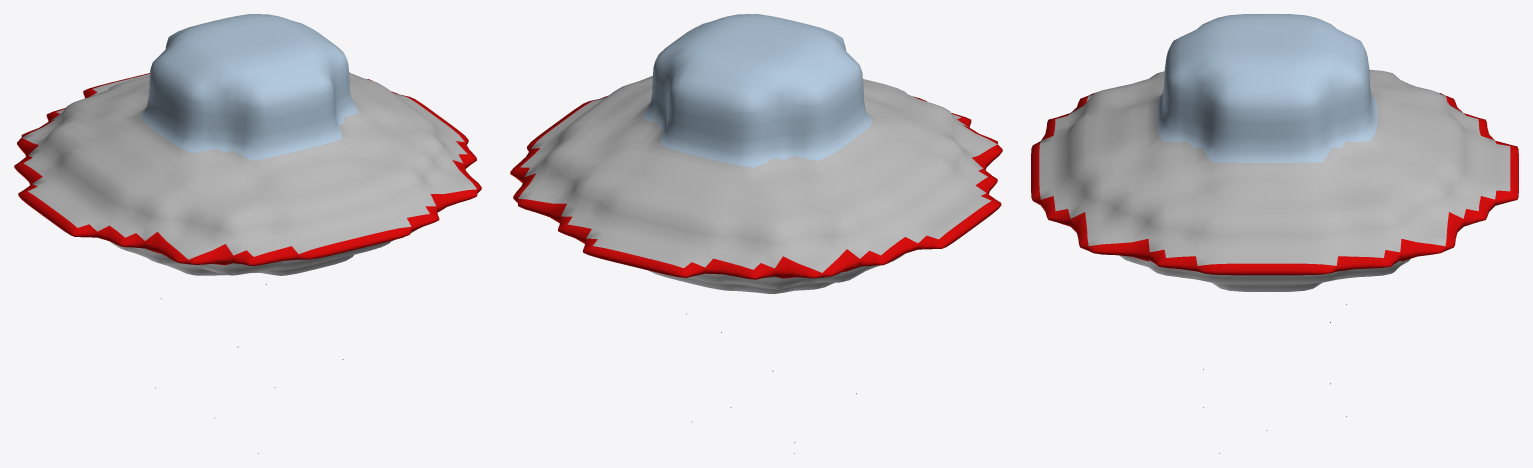
The picture shows the model from 3 angles, left to right: view 1: azimuth 30°, elevation 25°; view 2: azimuth 150°, elevation 25°; view 3: azimuth 270°, elevation 25°; orthographic projection. The views are drawn at different scales.
Bounding box in the file's own units: 1.54 × 1.48 × 1.54.
